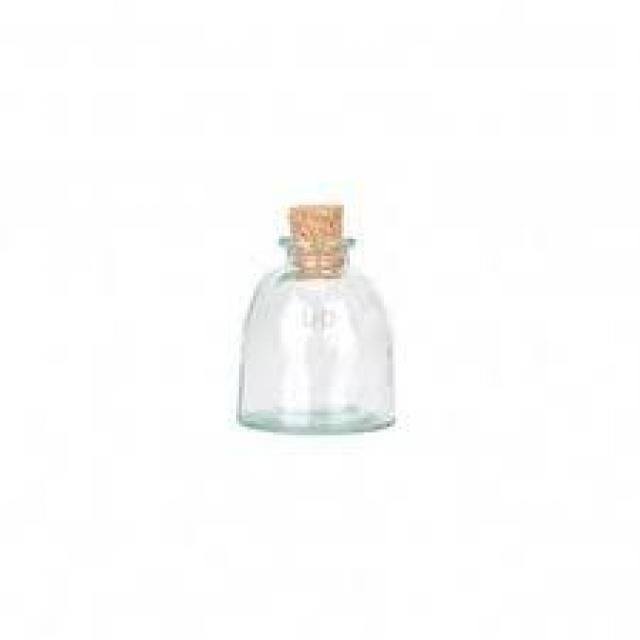glass: (239, 200, 401, 437)
